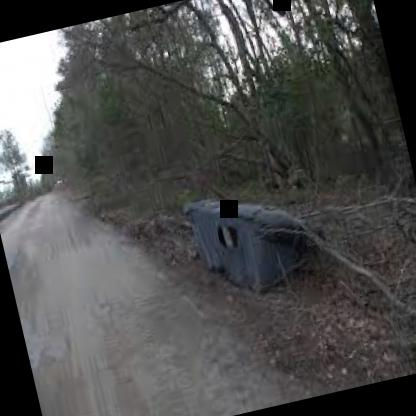car: (161, 160, 332, 330)
